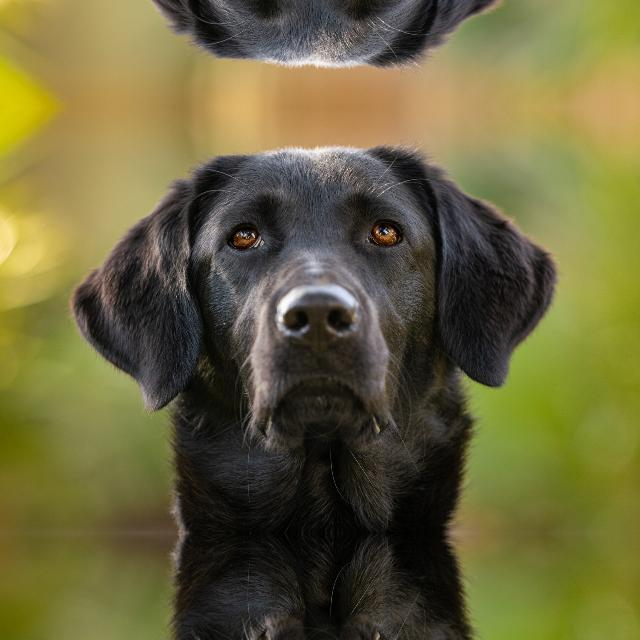dog: (78, 143, 572, 415), (77, 0, 572, 69)
